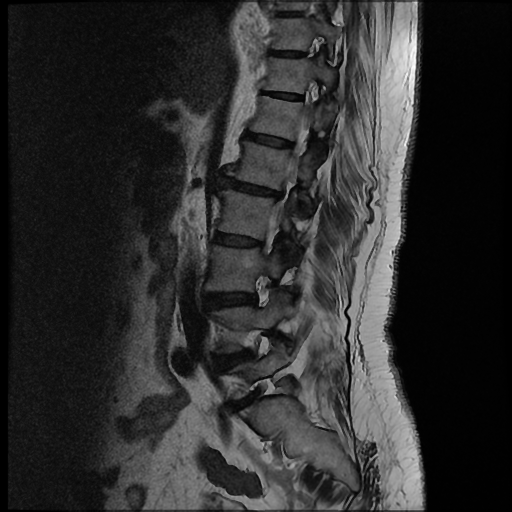RFS0: (243, 264, 279, 314)
